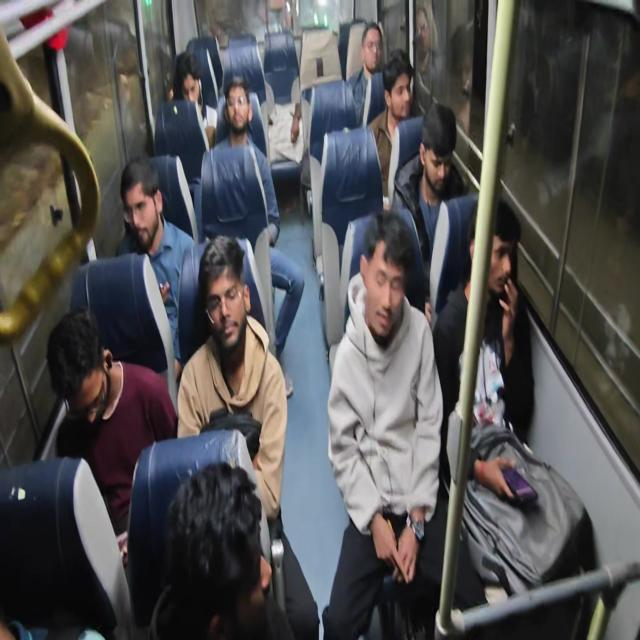person: (321, 209, 487, 638), (432, 197, 596, 613), (176, 234, 320, 638), (46, 305, 177, 567), (205, 74, 305, 397), (432, 198, 536, 500), (148, 461, 294, 638), (115, 155, 196, 377), (390, 101, 467, 265), (366, 56, 414, 210), (169, 51, 217, 150), (346, 21, 385, 128), (445, 22, 474, 136), (411, 5, 440, 116)
